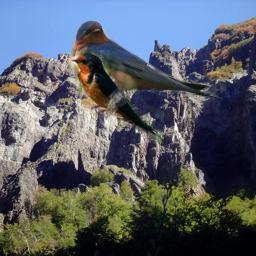Swallow: (70, 20, 229, 101), (68, 50, 164, 144)
